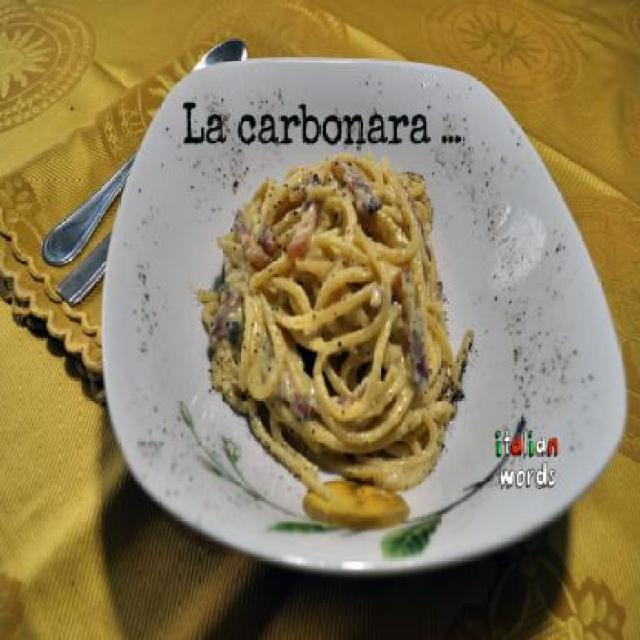Pasta with carbonara sauce: (194, 162, 517, 518)
